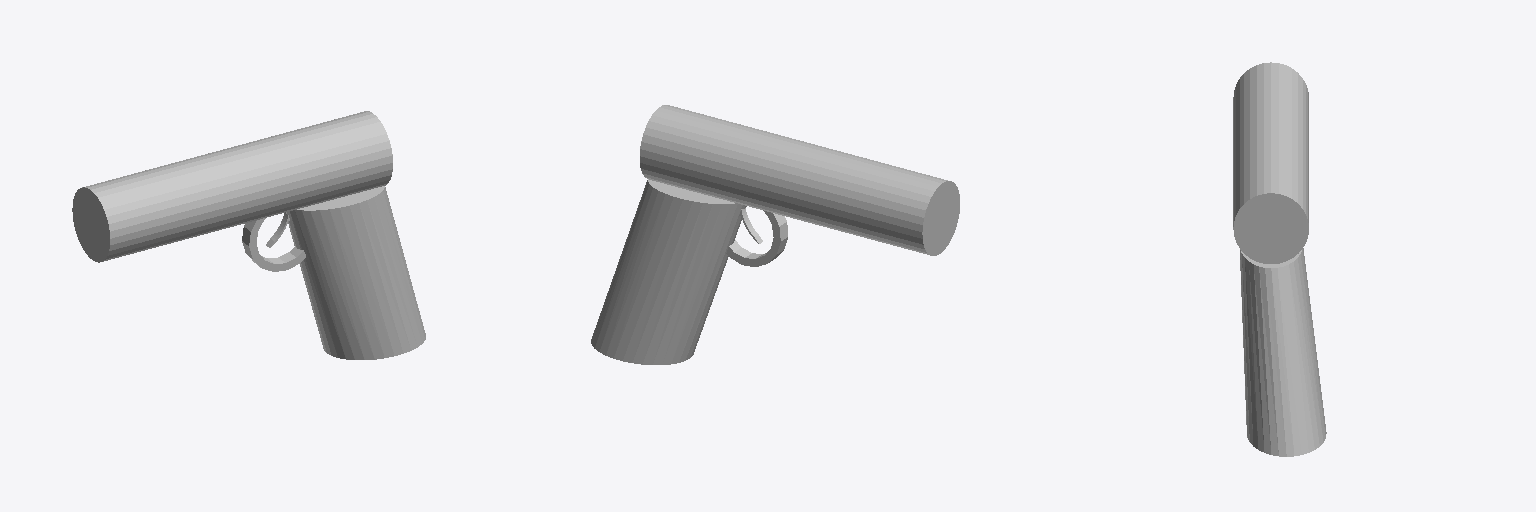
The model's file is dart_gun.obj.
The picture shows the model from 3 angles: view 1: azimuth 30°, elevation 25°; view 2: azimuth 150°, elevation 25°; view 3: azimuth 270°, elevation 25°; orthographic projection.
Visible parts, largest first — view 1: Cylinder.001; view 2: Cylinder.001; view 3: Cylinder.001.
Part boxes in pixels (x1,y1,x2,y2): Cylinder.001: (72,111,425,359); Cylinder.001: (591,105,959,364); Cylinder.001: (1233,62,1326,456).
Size of the model in its own units: 5.87 by 3.9 by 1.4.